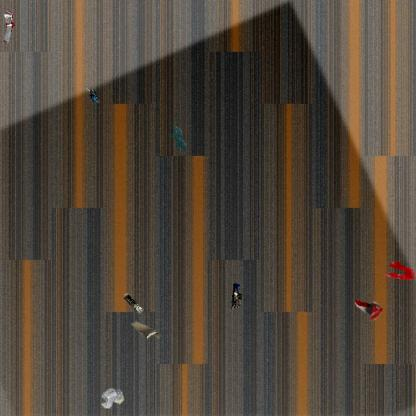dirty: (353, 296, 385, 322), (130, 319, 161, 341), (100, 387, 126, 410), (1, 9, 17, 46), (121, 292, 145, 315), (228, 282, 243, 311), (84, 86, 101, 106)
liquid: (383, 260, 415, 282), (170, 126, 188, 150)
